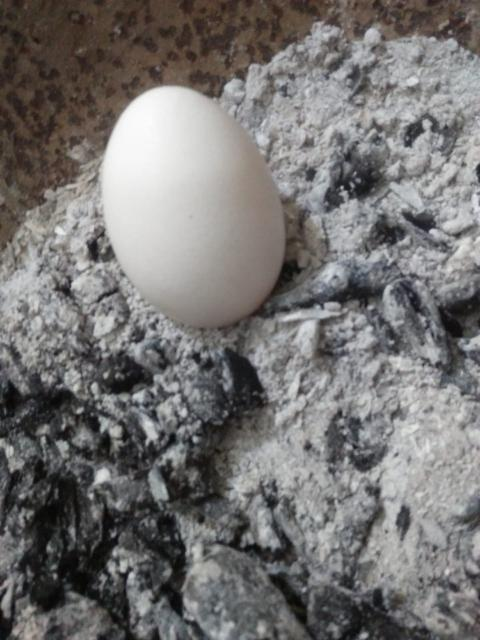Sano: (102, 85, 285, 326)
